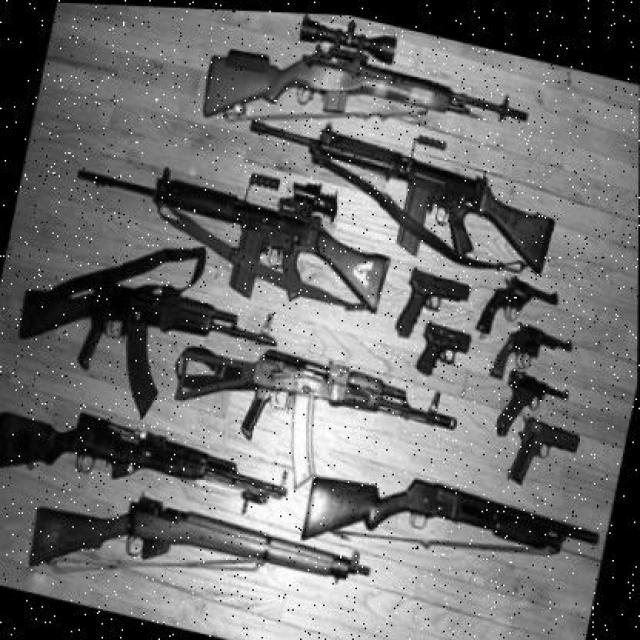weapon: (248, 124, 555, 276), (73, 170, 392, 313), (19, 282, 278, 422), (201, 15, 531, 124), (0, 409, 289, 513), (27, 495, 370, 582), (174, 343, 460, 446), (301, 478, 601, 556), (393, 268, 472, 338), (495, 369, 571, 439), (474, 274, 561, 334), (508, 417, 580, 486), (489, 323, 576, 380), (415, 322, 474, 377)
